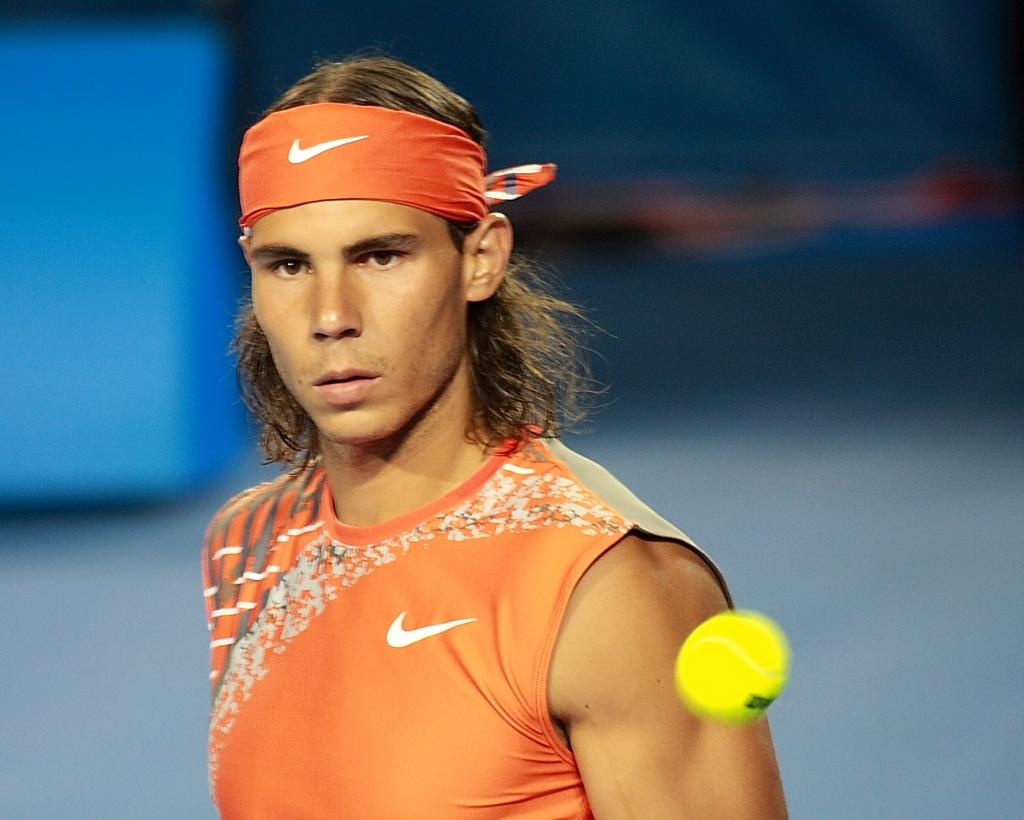face: (252, 184, 464, 442)
